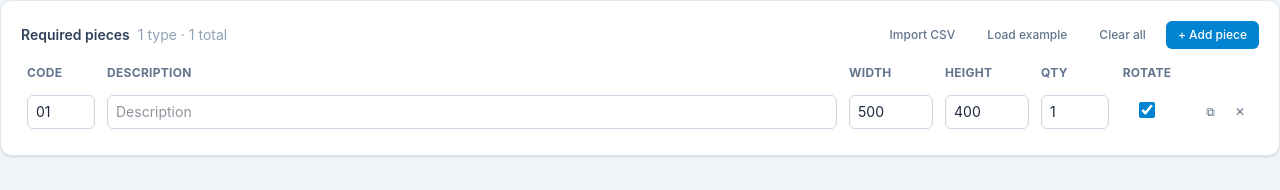
Test: PieceTable › clears all pieces
Click the button "Clear all". click: (1123, 35)
box: [1087,21,1158,49]
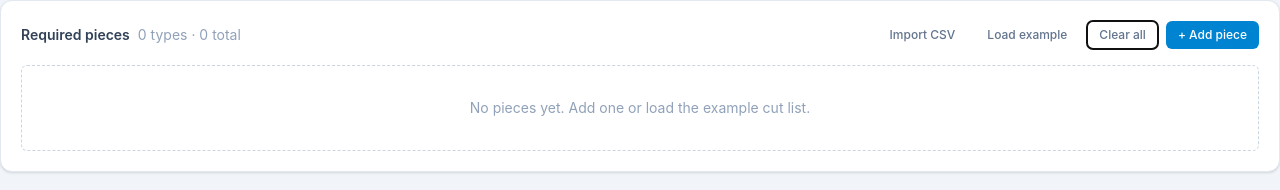
Expected: the text "No pieces yet. Add one or load the example cut list." is shown, [21,65,1259,151]
